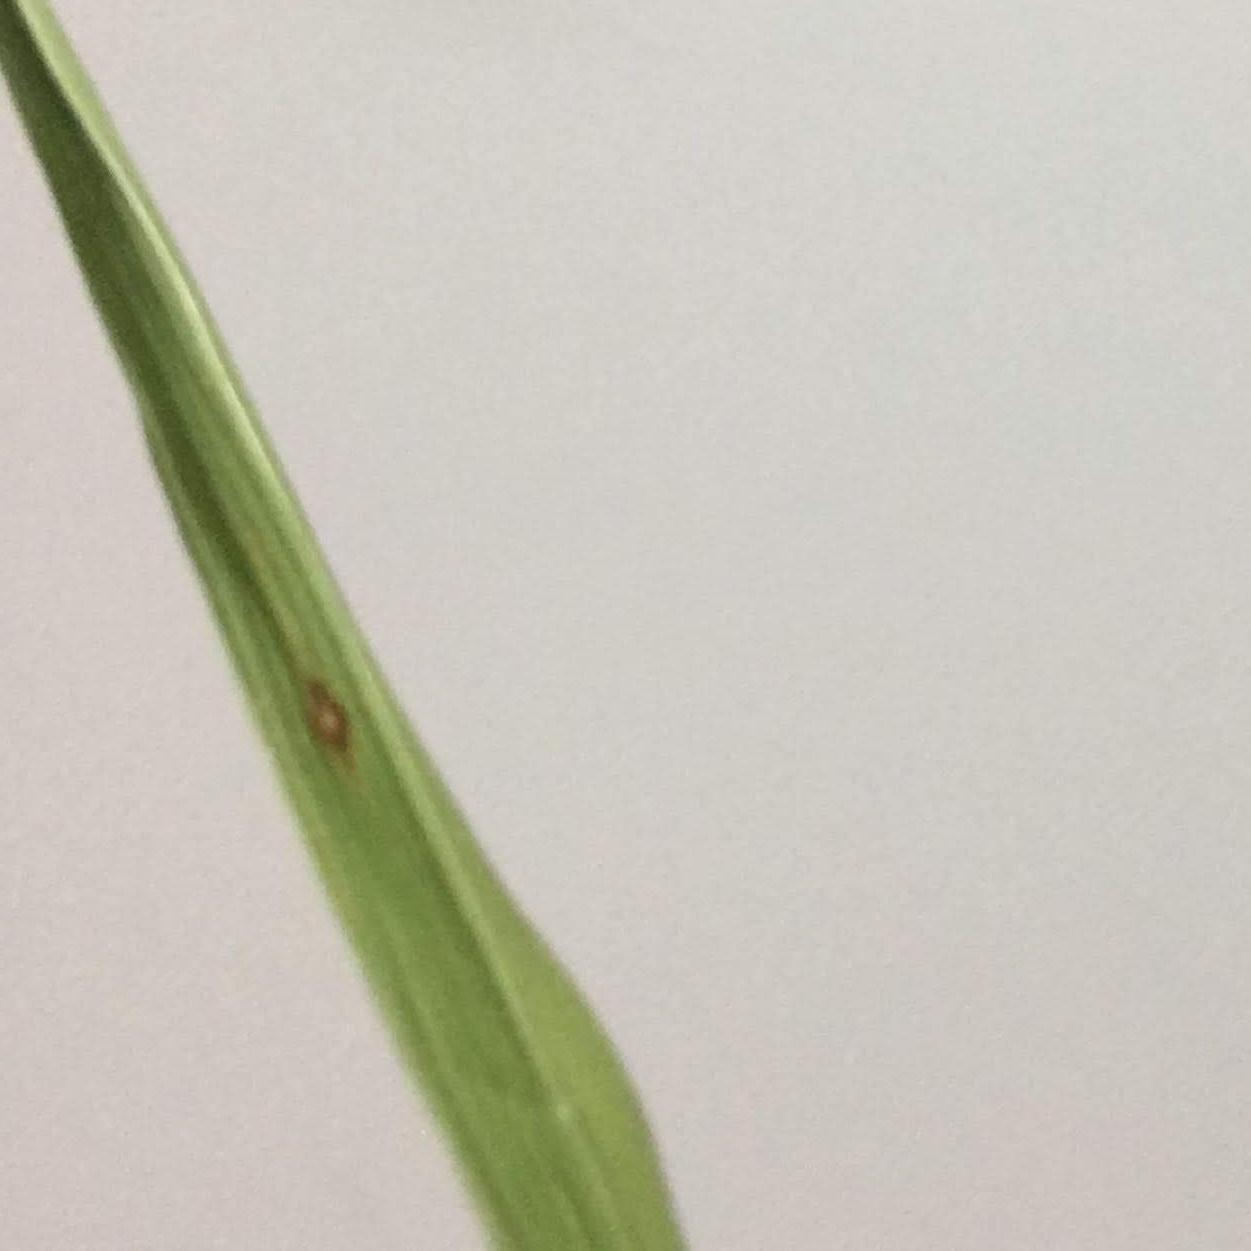1 RiceBlast: (283, 616, 364, 769)
